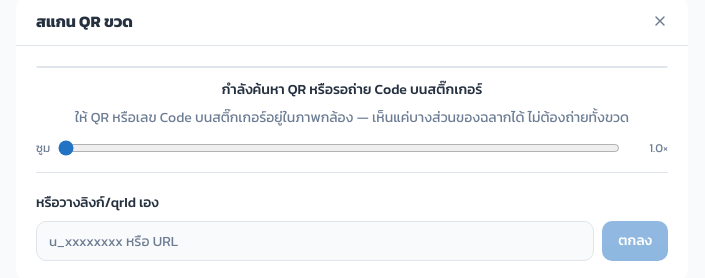
Scenario: StockQrScanner › zooms the camera with a two-finger pinch gesture without page panning
The image size is (705, 278).
Expected: the text "1.0×" is shown, top-left (649, 139), bottom-right (668, 157)
Press the mouse on the element with test id "stock-qr-camera-frame" at (352, 67), box top-left (36, 66), bottom-right (668, 68)
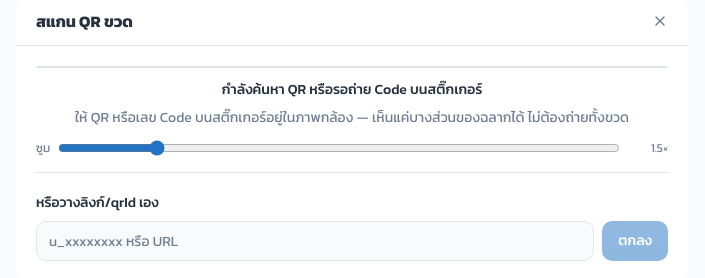
Now the text "1.5×" is shown, box top-left (651, 139), bottom-right (668, 157)
